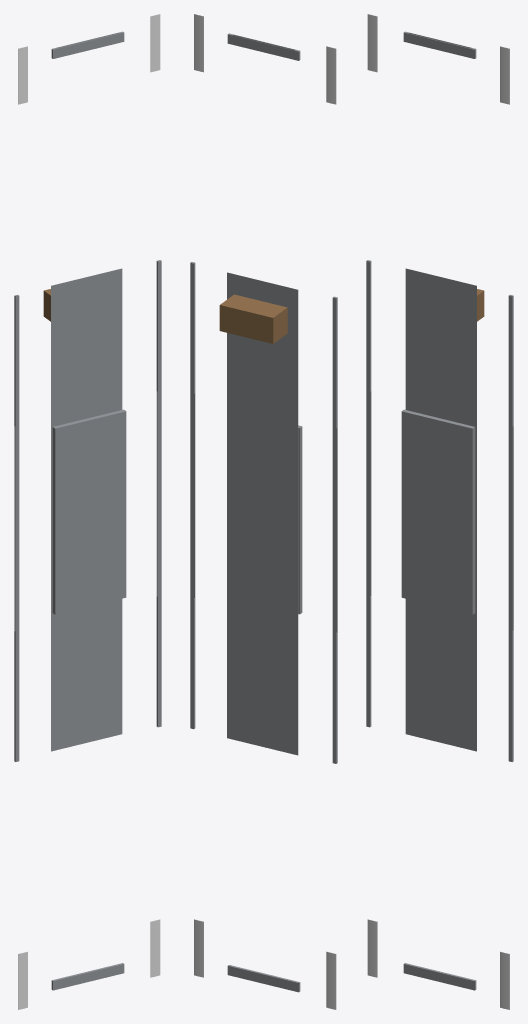
The model's file is classic_seismograph_body_compact.glb.
The picture shows the model from 3 angles, left to right: view 1: azimuth 30°, elevation 25°; view 2: azimuth 150°, elevation 25°; view 3: azimuth 330°, elevation 25°; orthographic projection.
Visible parts, largest first — view 1: TopCover, SeismoBase, SidePanel_1, SidePanel_-1, FrontPanel, BackPanel, Leg_0.9299999999999999_2.43, Leg_0.9299999999999999_-2.43, Leg_-0.9299999999999999_2.43, Leg_-0.9299999999999999_-2.43; view 2: TopCover, SidePanel_-1, SidePanel_1, CollectionBox, SeismoBase, BackPanel, FrontPanel, Leg_-0.9299999999999999_-2.43, Leg_-0.9299999999999999_2.43, Leg_0.9299999999999999_-2.43, Leg_0.9299999999999999_2.43; view 3: TopCover, SeismoBase, SidePanel_-1, SidePanel_1, FrontPanel, BackPanel, Leg_-0.9299999999999999_2.43, Leg_-0.9299999999999999_-2.43, Leg_0.9299999999999999_2.43, Leg_0.9299999999999999_-2.43.
Boxes of the visible parts, <box> form: TopCover: <box>51,268,122,751</box>; SeismoBase: <box>52,409,126,614</box>; SidePanel_1: <box>156,260,161,727</box>; SidePanel_-1: <box>14,294,19,761</box>; FrontPanel: <box>51,31,124,58</box>; BackPanel: <box>51,963,124,990</box>; Leg_0.9299999999999999_2.43: <box>150,14,160,72</box>; Leg_0.9299999999999999_-2.43: <box>150,919,160,977</box>; Leg_-0.9299999999999999_2.43: <box>18,46,27,104</box>; Leg_-0.9299999999999999_-2.43: <box>18,951,27,1009</box>; TopCover: <box>227,272,298,755</box>; SidePanel_-1: <box>332,296,337,763</box>; SidePanel_1: <box>190,262,195,729</box>; CollectionBox: <box>219,294,287,343</box>; SeismoBase: <box>298,425,302,614</box>; BackPanel: <box>227,965,300,992</box>; FrontPanel: <box>227,33,300,60</box>; Leg_-0.9299999999999999_-2.43: <box>326,951,336,1009</box>; Leg_-0.9299999999999999_2.43: <box>326,46,336,104</box>; Leg_0.9299999999999999_-2.43: <box>194,919,203,977</box>; Leg_0.9299999999999999_2.43: <box>194,14,203,72</box>; TopCover: <box>405,268,476,751</box>; SeismoBase: <box>401,409,475,614</box>; SidePanel_-1: <box>366,260,371,727</box>; SidePanel_1: <box>508,294,513,761</box>; FrontPanel: <box>403,31,476,58</box>; BackPanel: <box>403,963,476,990</box>; Leg_-0.9299999999999999_2.43: <box>367,14,377,72</box>; Leg_-0.9299999999999999_-2.43: <box>367,919,377,977</box>; Leg_0.9299999999999999_2.43: <box>500,46,509,104</box>; Leg_0.9299999999999999_-2.43: <box>500,951,509,1009</box>.
Size of the model in its own units: 2.05 by 12.9 by 0.495.
